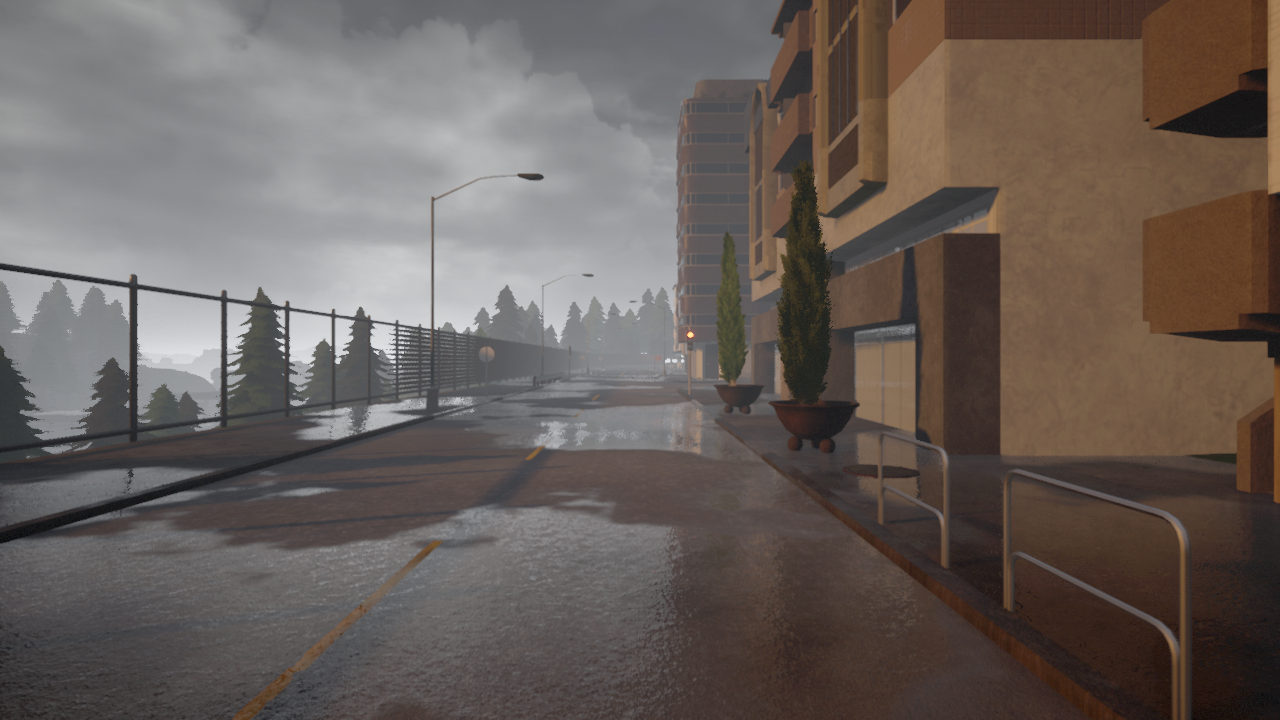red: (686, 330, 694, 351)
